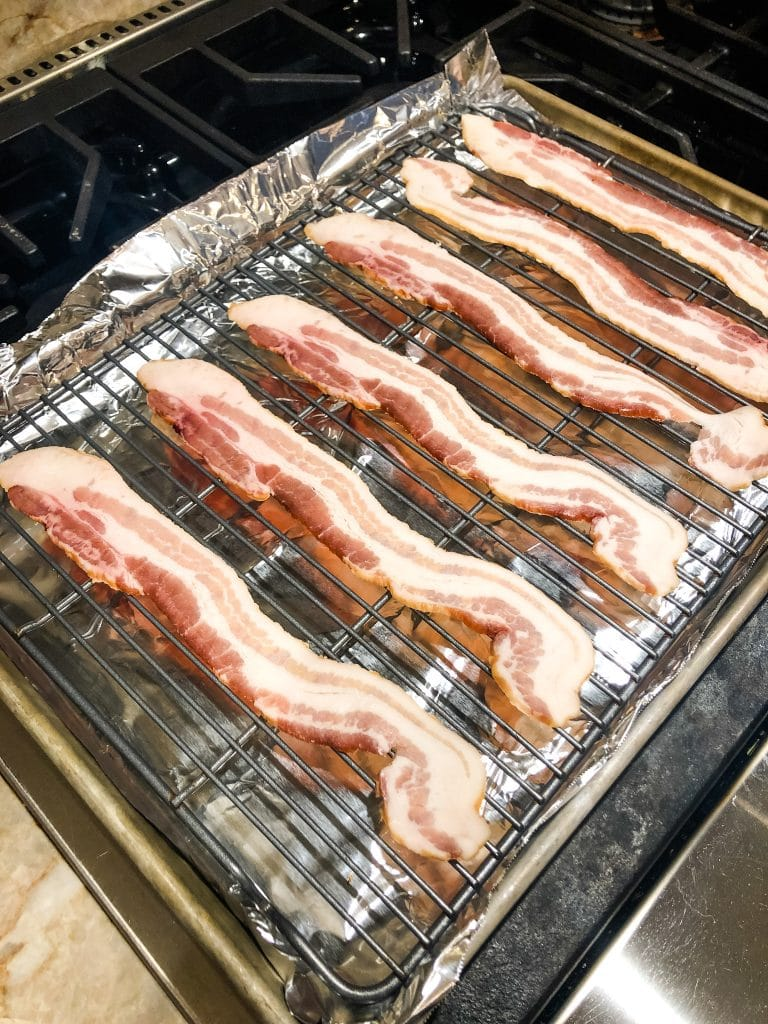bacon: (24, 421, 595, 860), (300, 194, 707, 533)
